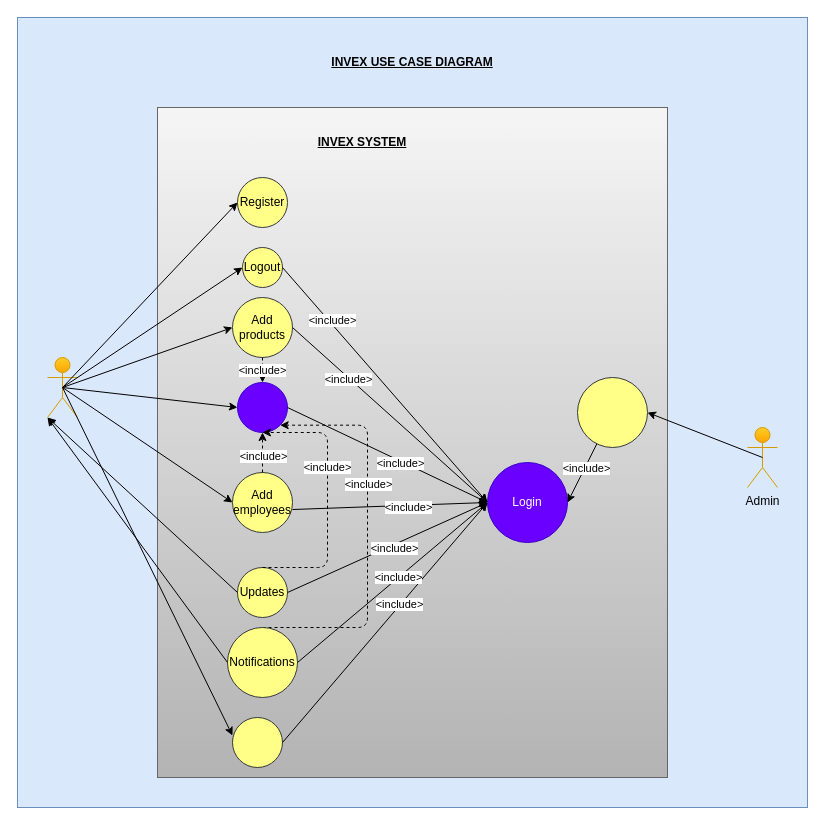
Image size: 825x825. Some labels were removed from this diagram. The shapes that lost their labels are listed below. From the top down, each one's centre as x and y in pixels, then its label:
the point at 62,387: User
the point at 262,407: Create shop
the point at 612,412: Perform system upgrade
the point at 257,742: View profile
